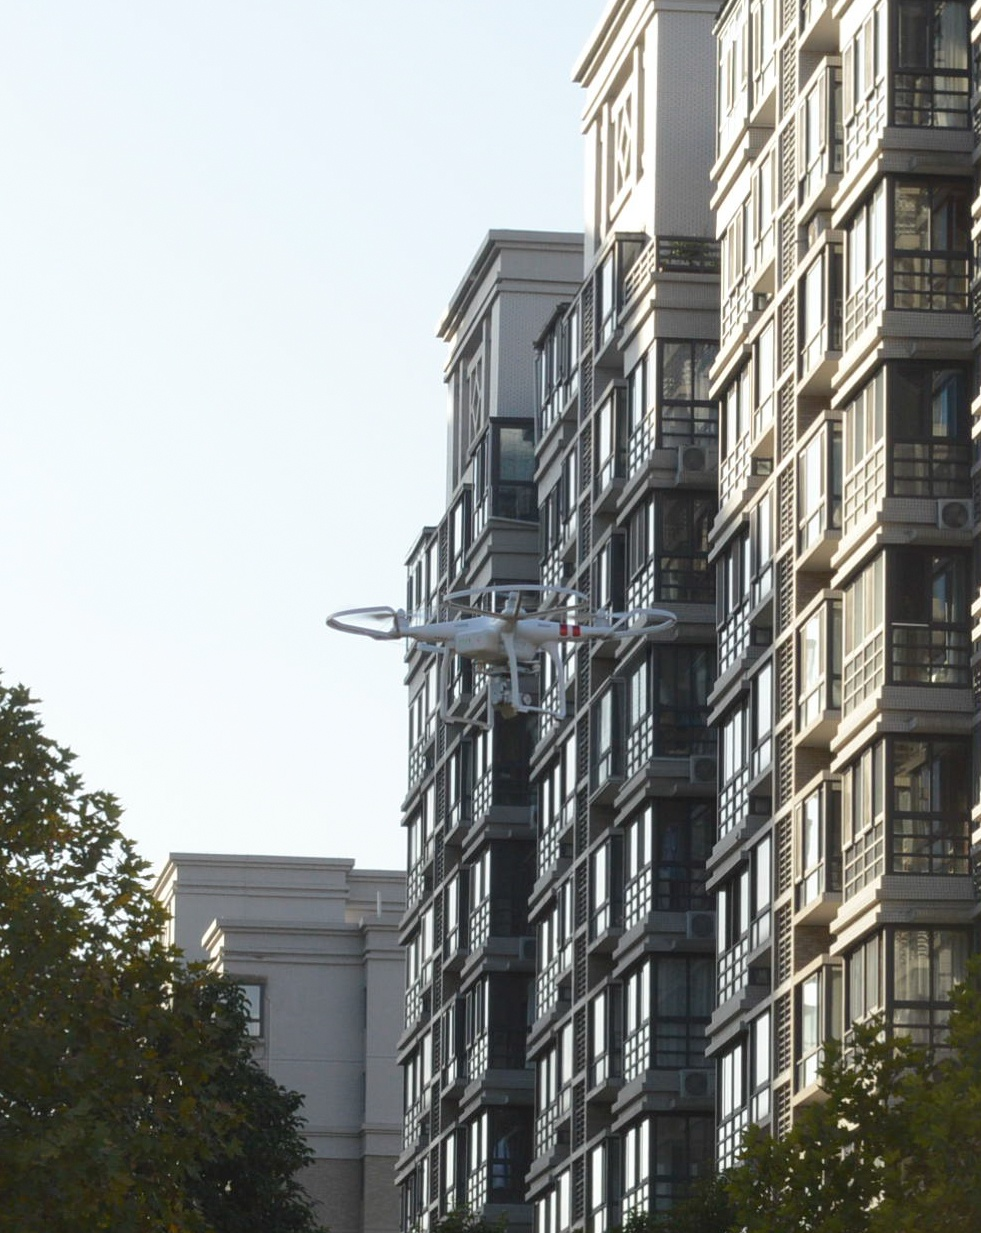DJI: (330, 583, 673, 716)
